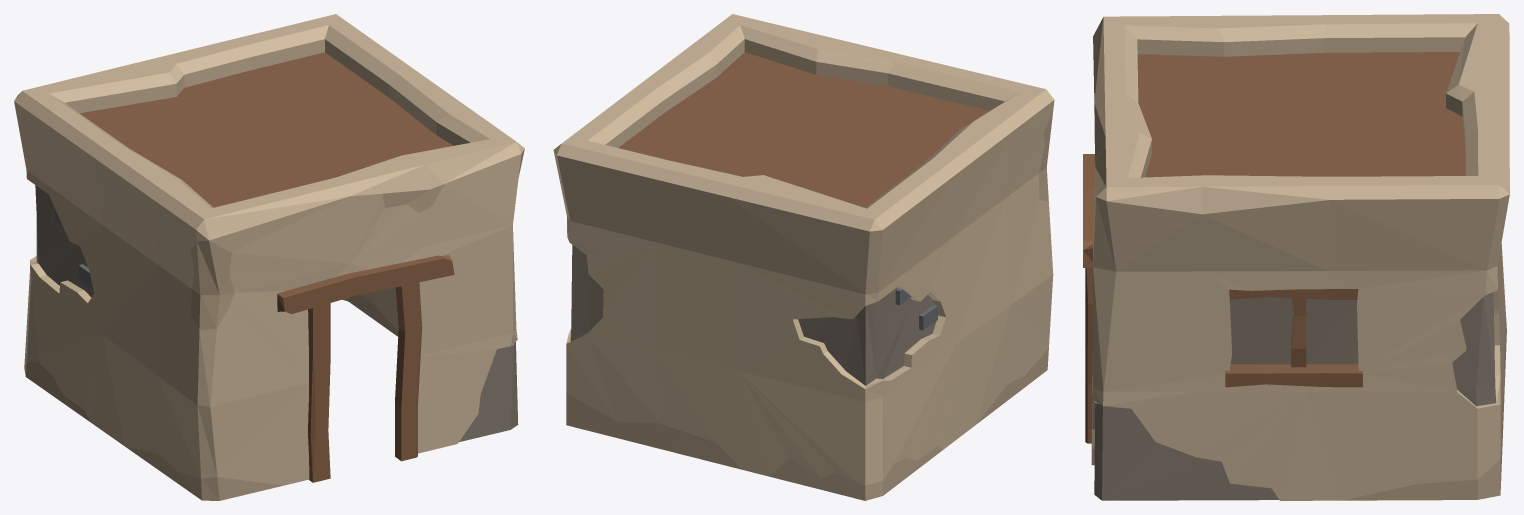
The model's file is SM_Bld_Village_02.fbx.
3 renders of one model, left to right at view 1: azimuth 30°, elevation 25°; view 2: azimuth 150°, elevation 25°; view 3: azimuth 270°, elevation 25°, orthographic. The views are drawn at different scales.
Parts seen in each view (by area): view 1: SM_Bld_Village_02; view 2: SM_Bld_Village_02; view 3: SM_Bld_Village_02.
Part boxes in pixels (x1,y1,x2,y2): SM_Bld_Village_02: (14, 14, 524, 500); SM_Bld_Village_02: (553, 14, 1054, 500); SM_Bld_Village_02: (1083, 14, 1509, 500).
Size of the model in its own units: 0.0409 by 0.0329 by 0.0405.
1 material, 1 textured.
